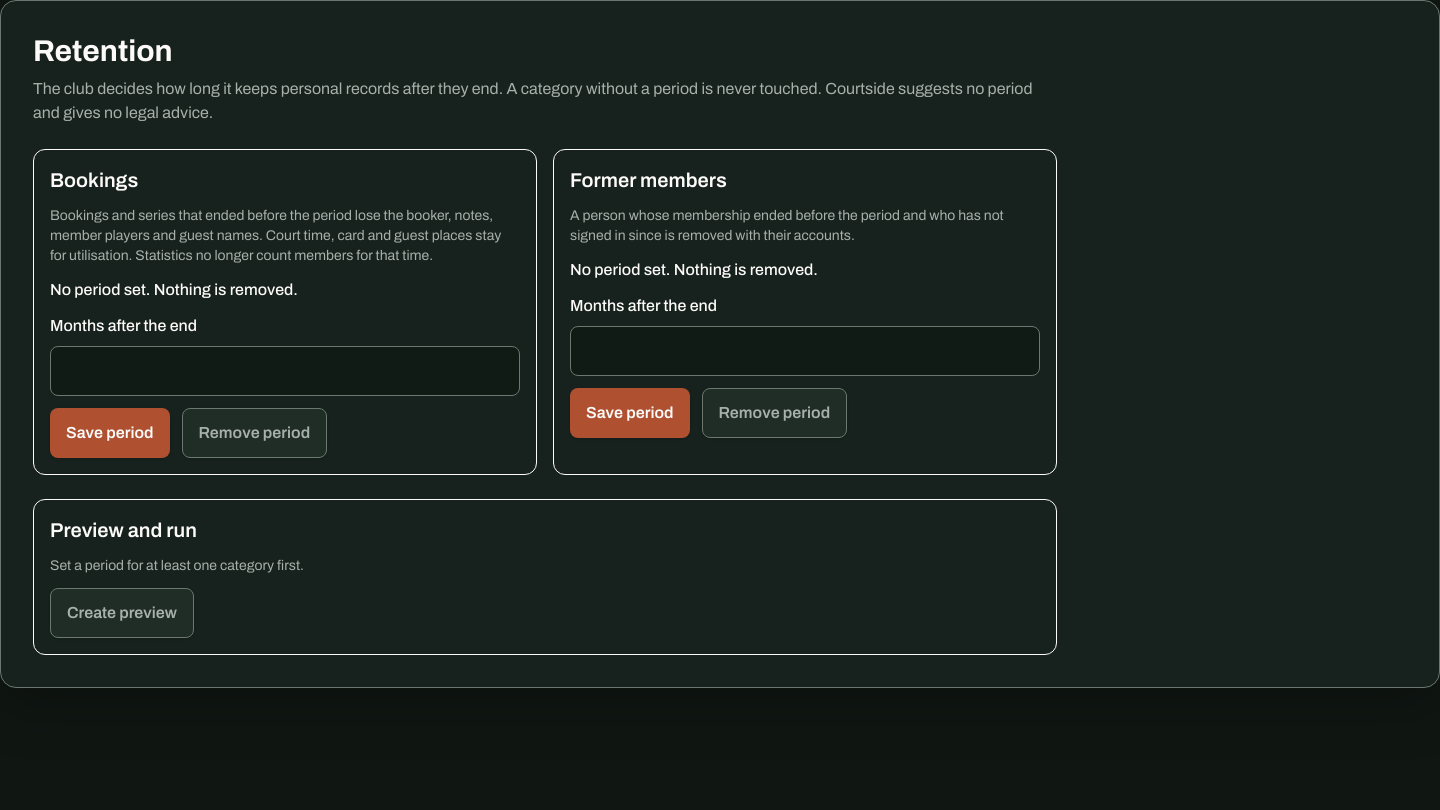
Test: AdminRetentionView › given a period the instance refuses, when it is saved, then its translated refusal is shown
The width and height of the screenshot is (1440, 810).
Type "1201" into the number field with test id "retention-months-FORMER_MEMBERS" at (805, 351), box [570,326,1040,376]
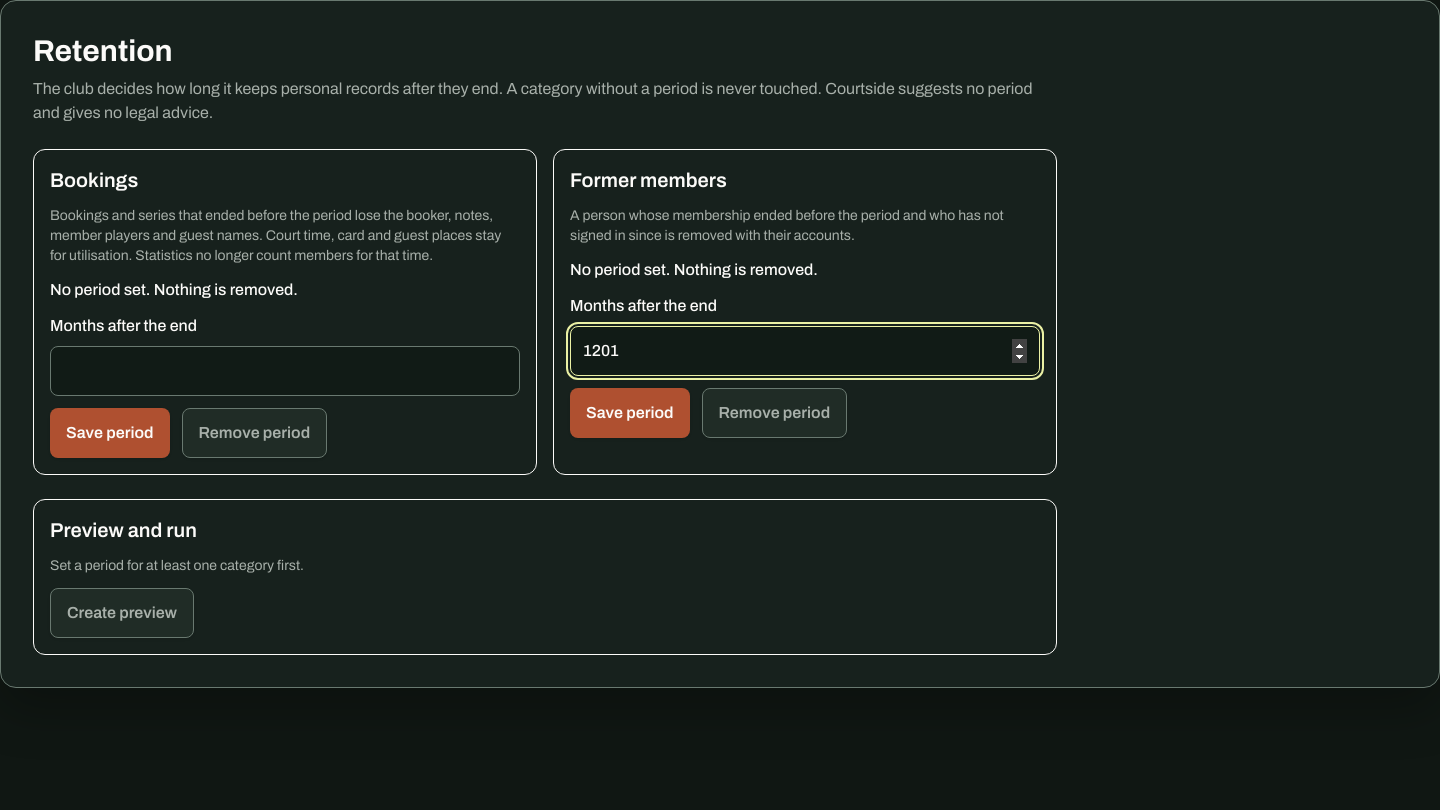
Click the button with test id "retention-save-FORMER_MEMBERS" at (630, 413), box [570,388,690,438]
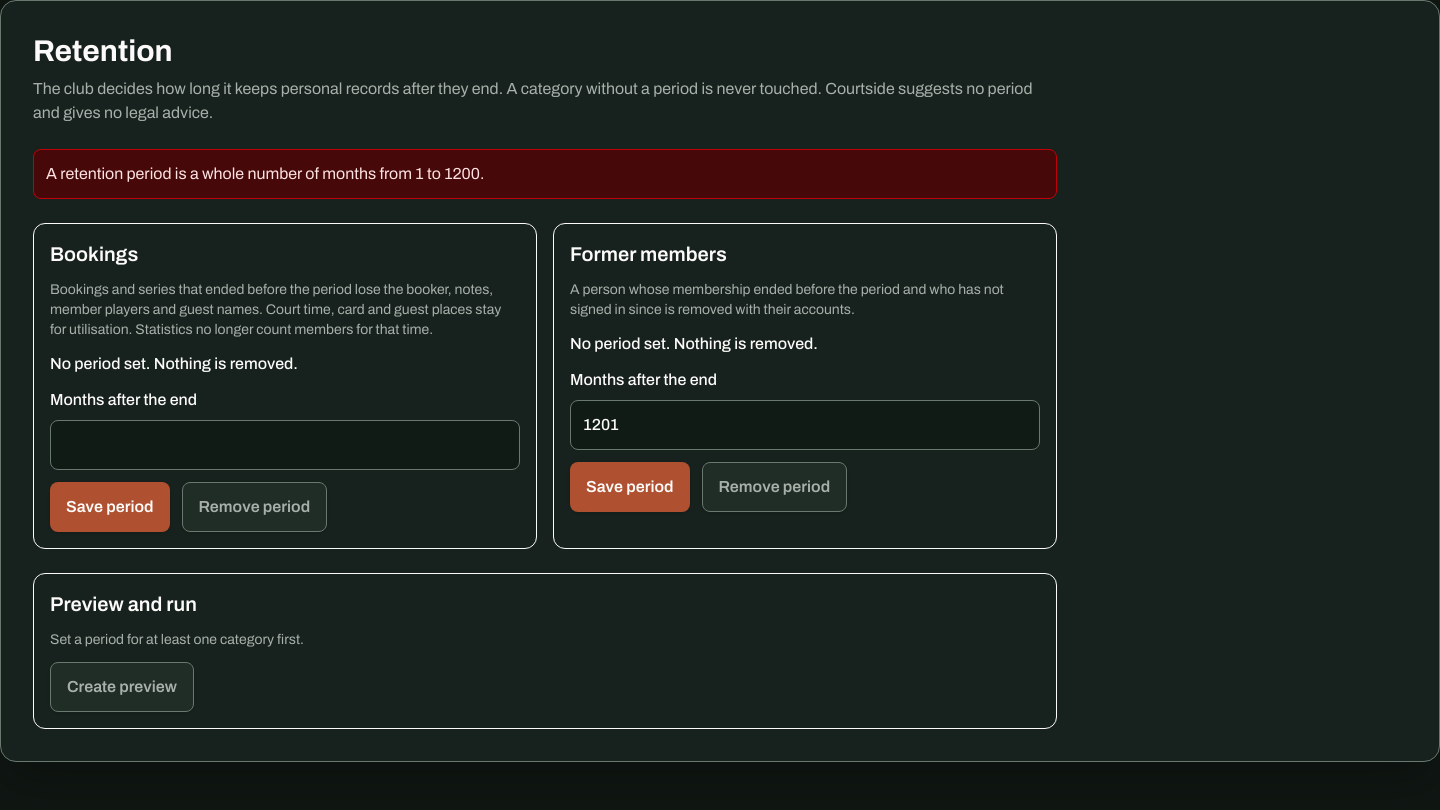
Check: the message with test id "retention-error" reads "A retention period is a whole number of months from 1 to 1200.", box [46,165,484,182]
